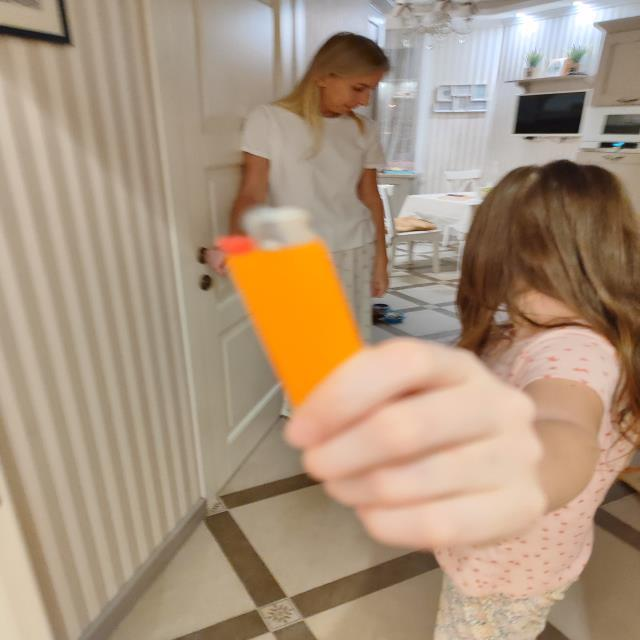lighter: (219, 207, 362, 406)
